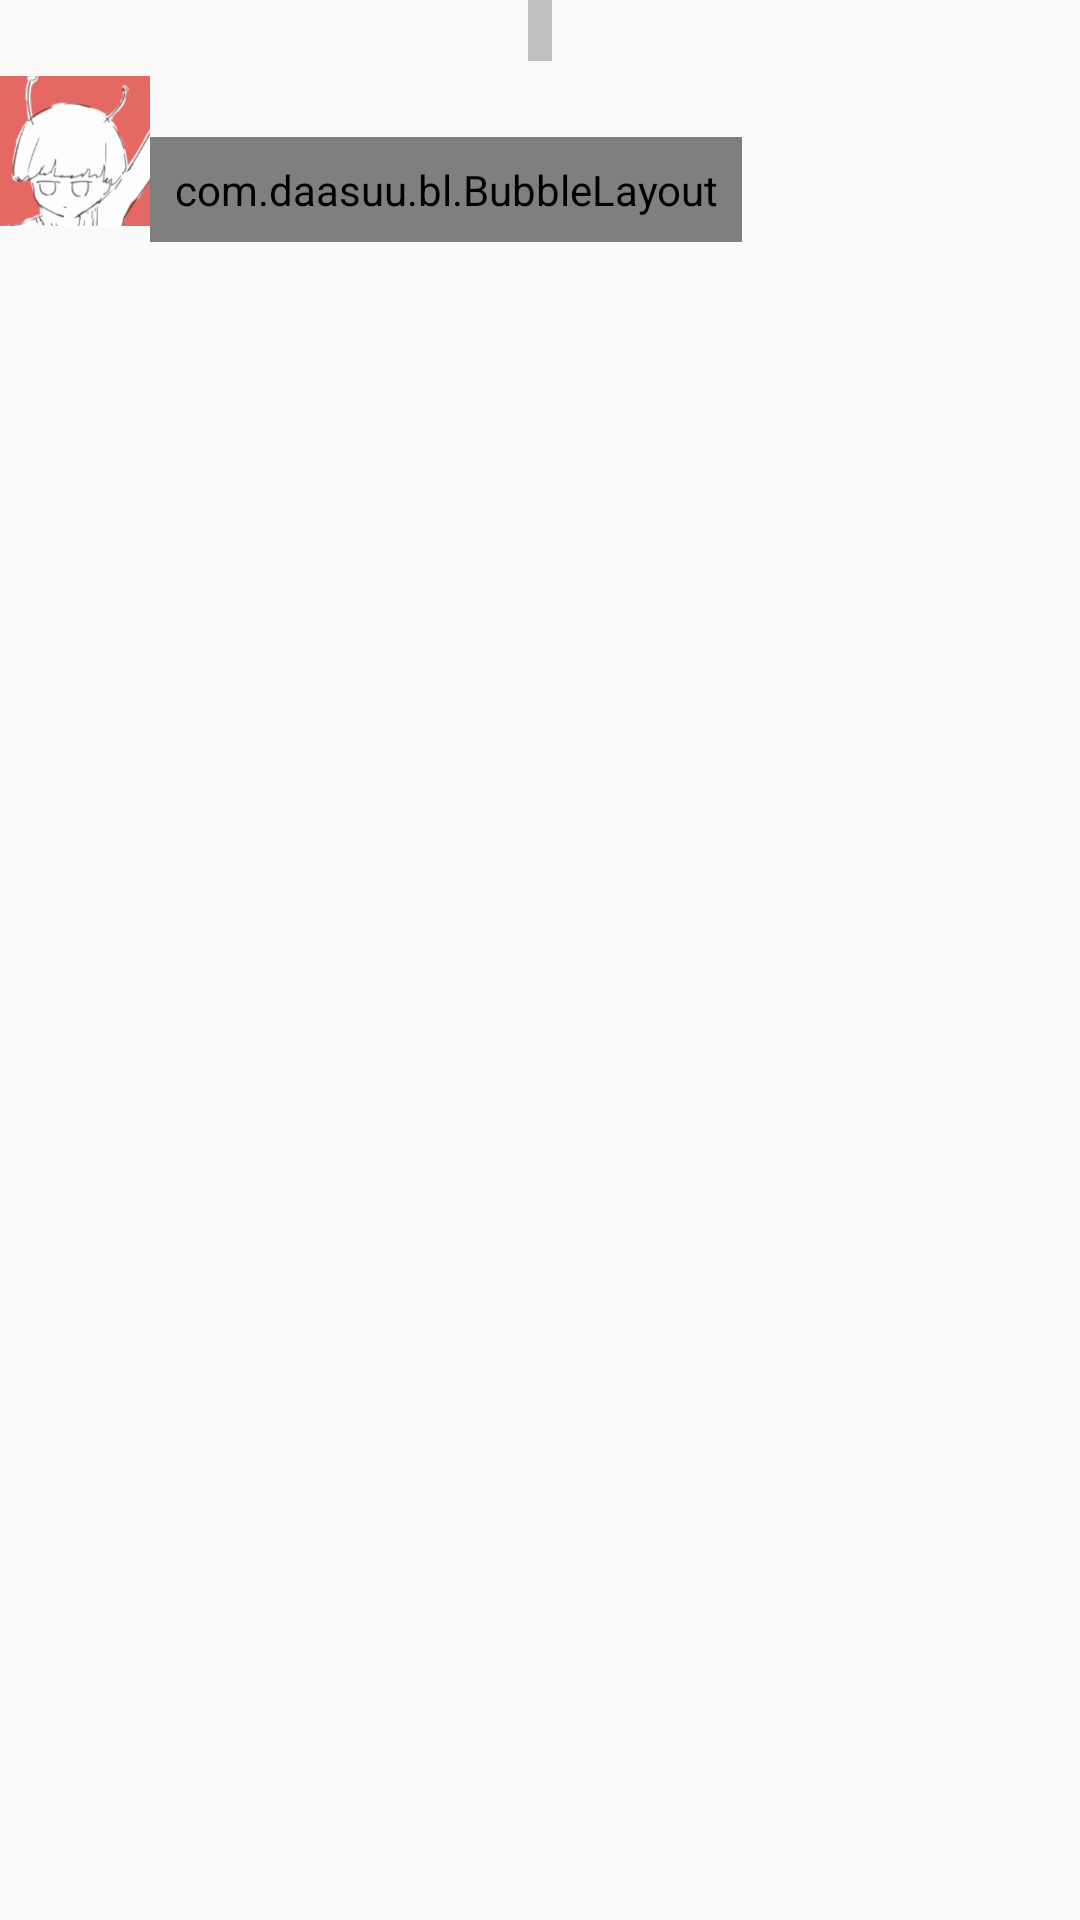

Point at icon controls on the screen. Image size 1080 x 1920, points as (x,y).
mypic: (75,151)
